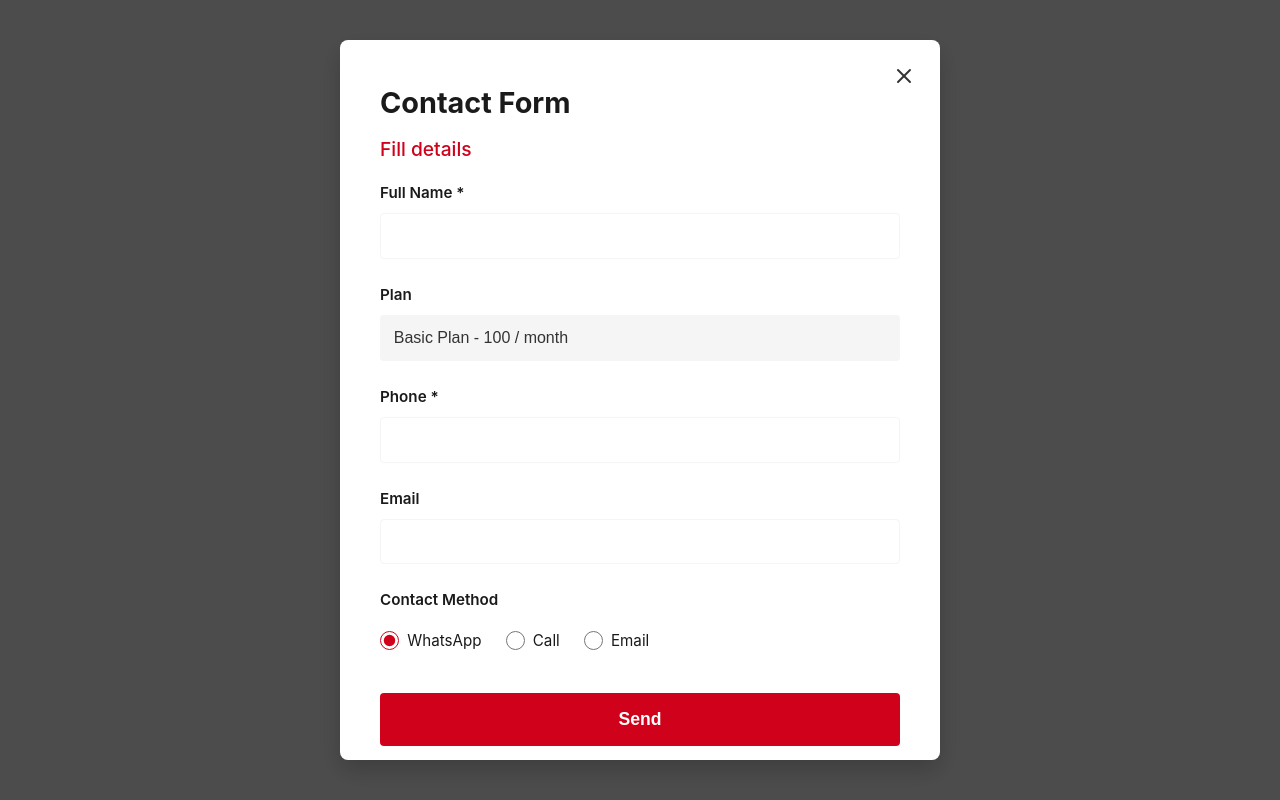
Test case: FormModal › validates required fields
Click the button "Send" at [640, 720], box [380,693,900,746]
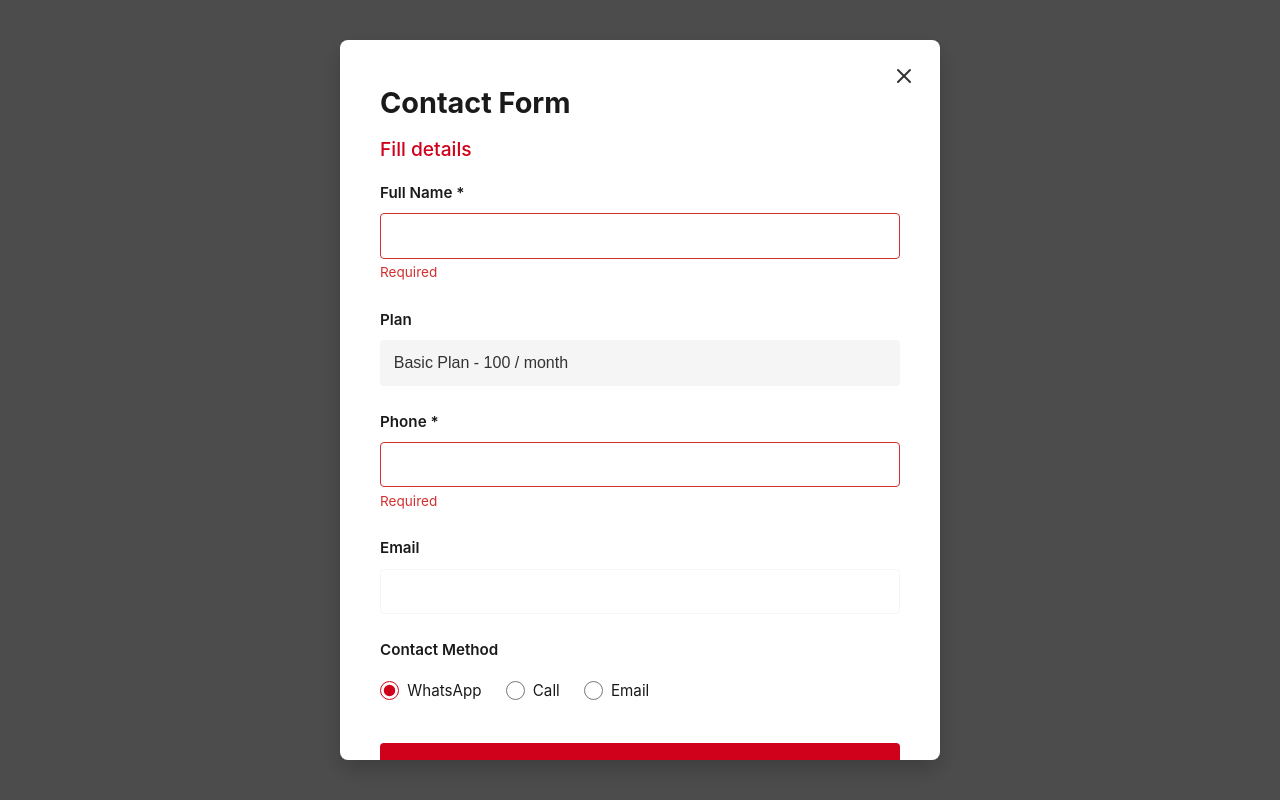
Expected: the text "Required" is shown 2 times, [380,264,437,280]; [380,493,437,509]
